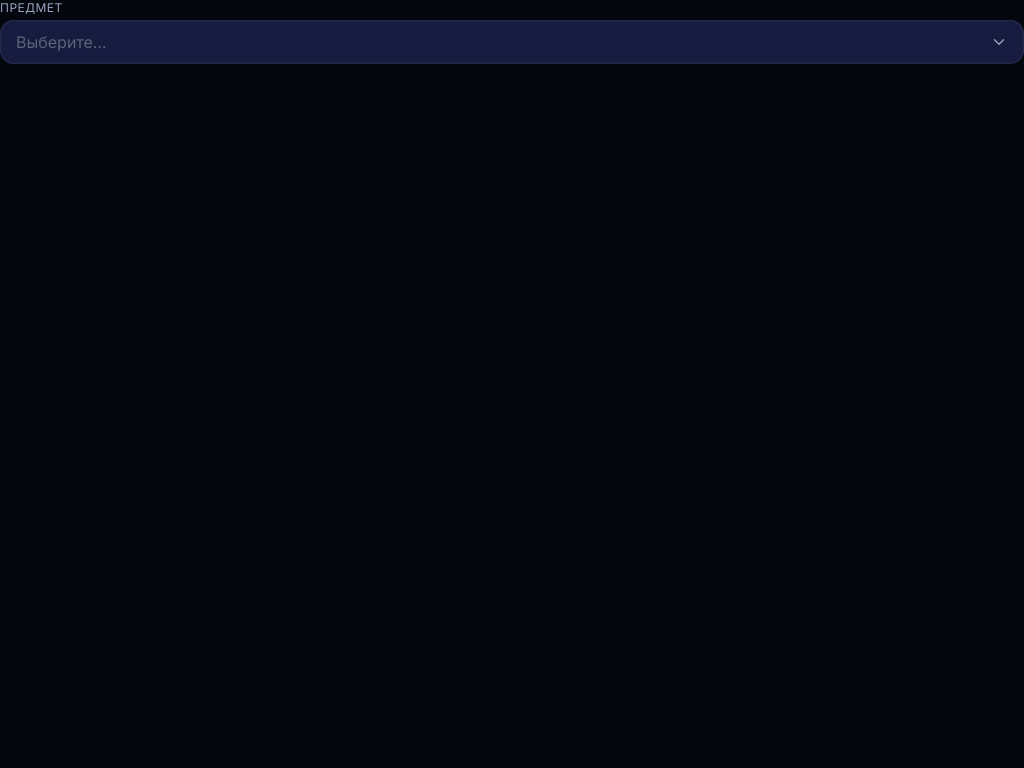
Test: Select › selects an option and closes the sheet
Click the button "Выберите…" at (61, 42), box 0,20 -> 1023,64
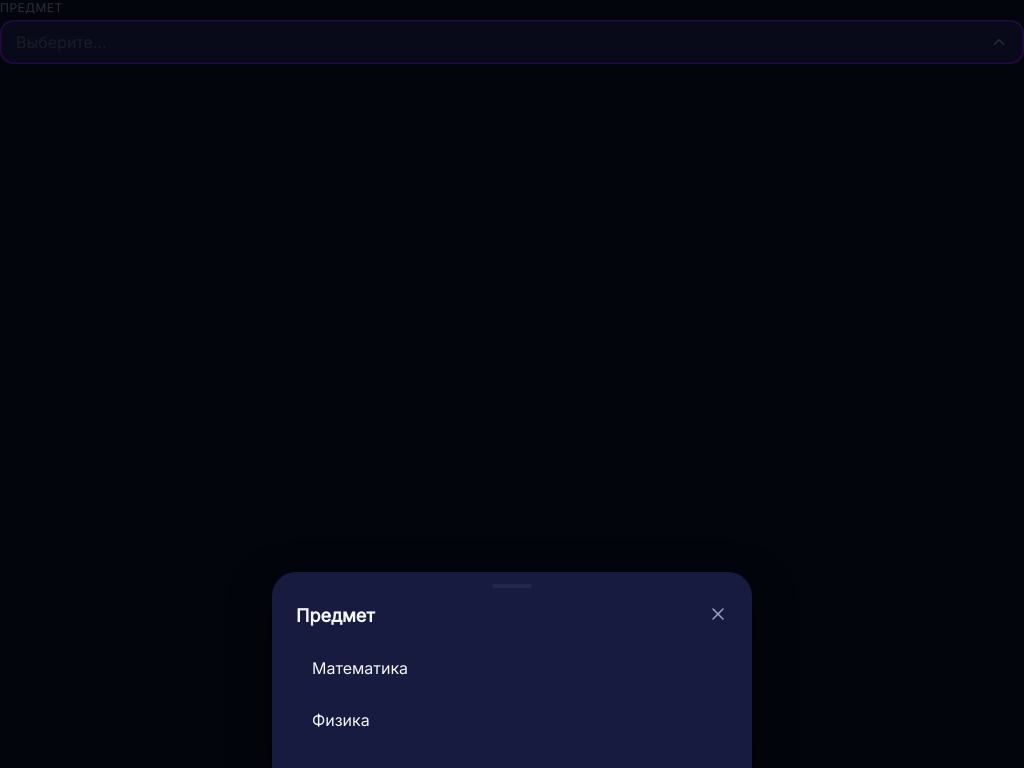
Click the option "Физика" at (341, 720), box 296,696 -> 728,744
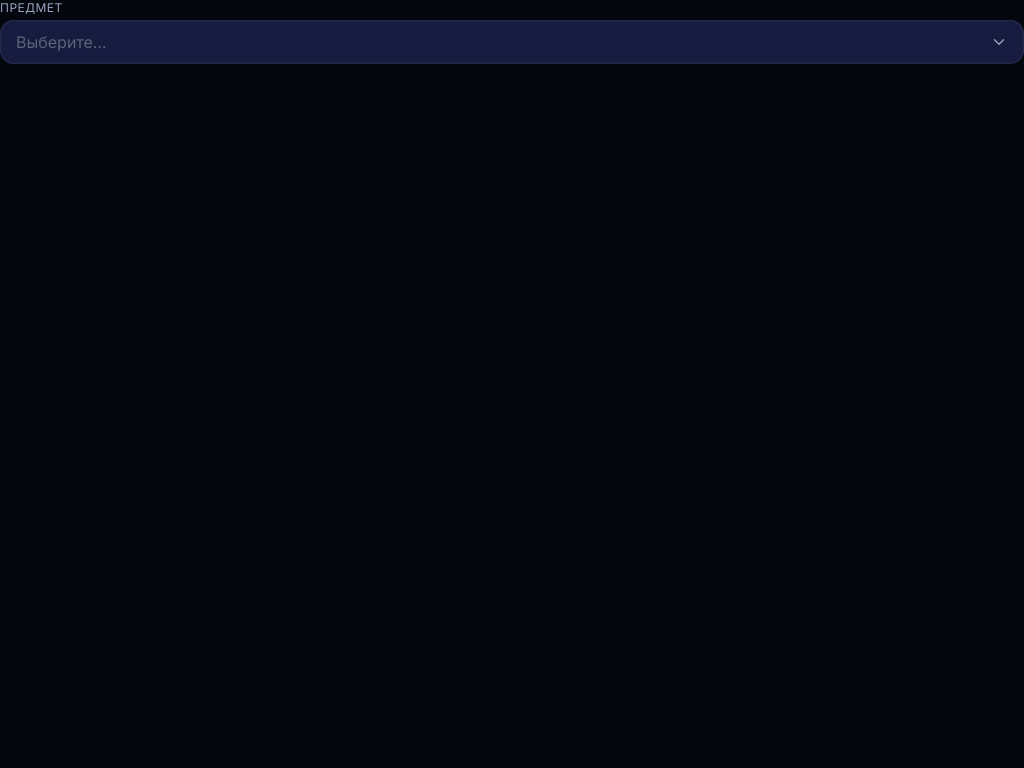
Now the list is gone
